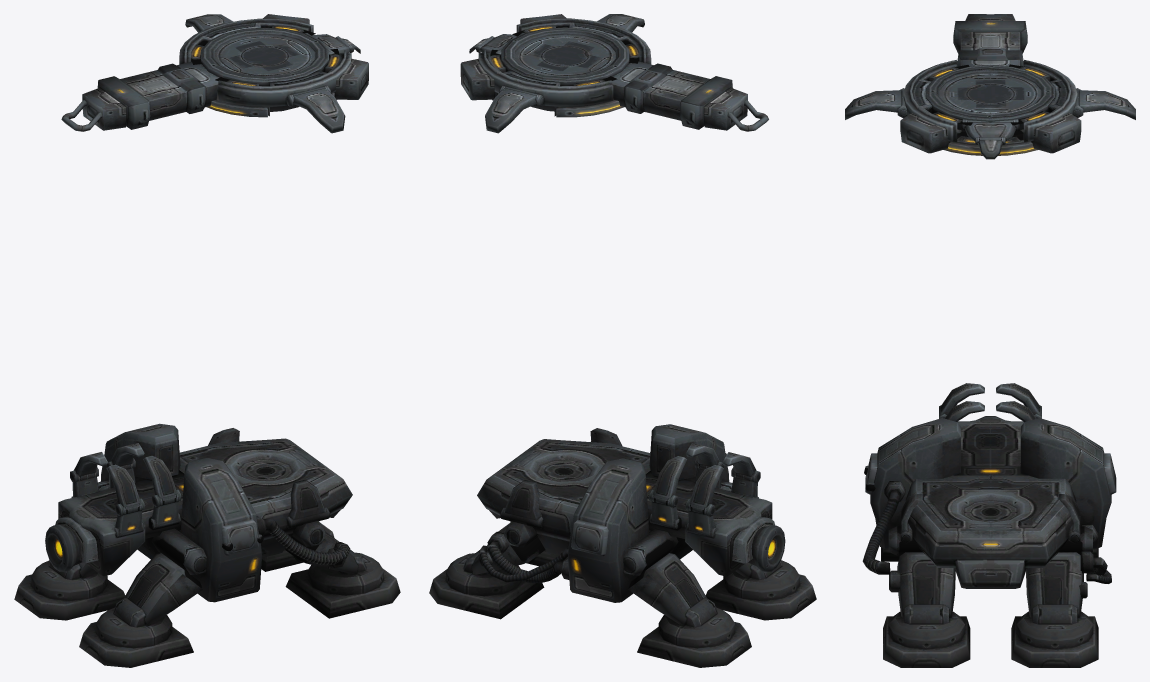
Rendered from MedivacPlatform.glb.
The picture shows the model from 3 angles, left to right: view 1: azimuth 30°, elevation 25°; view 2: azimuth 150°, elevation 25°; view 3: azimuth 270°, elevation 25°; orthographic projection.
Parts seen in each view (by area): view 1: Mesh, Mesh.001; view 2: Mesh, Mesh.001; view 3: Mesh, Mesh.001.
Boxes of the visible parts, left/top/right/bottom form: Mesh: left=14, top=423, right=400, bottom=667; Mesh.001: left=61, top=14, right=368, bottom=133; Mesh: left=429, top=424, right=816, bottom=667; Mesh.001: left=460, top=14, right=768, bottom=133; Mesh: left=862, top=383, right=1116, bottom=667; Mesh.001: left=845, top=14, right=1135, bottom=159.
Size of the model in its own units: 4.73 by 7.87 by 3.9.
2 materials, 2 textured.
